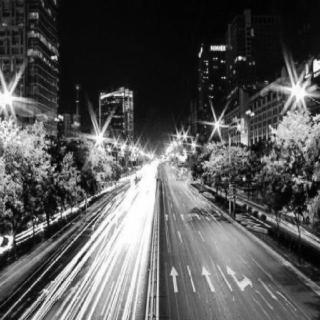other: (71, 106, 211, 252)
